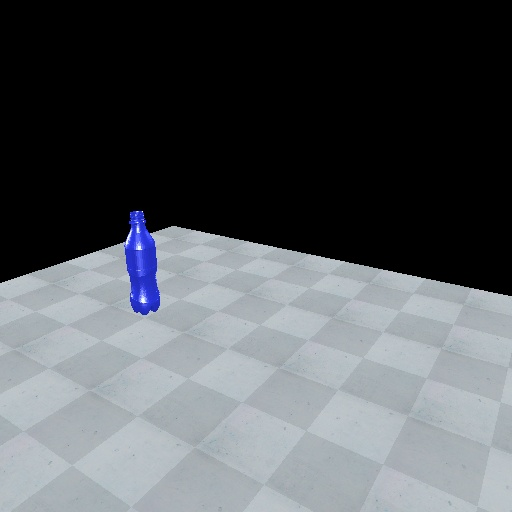bottle: (121, 209, 165, 317)
